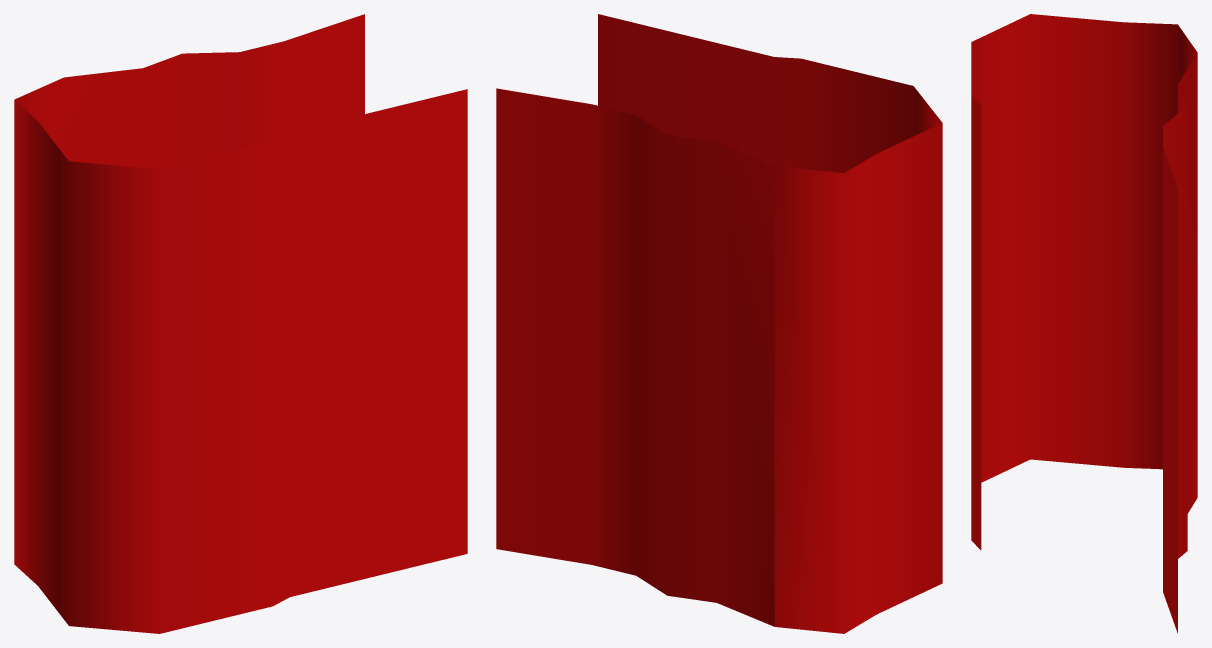
3 renders of one model, left to right at view 1: azimuth 30°, elevation 25°; view 2: azimuth 150°, elevation 25°; view 3: azimuth 270°, elevation 25°, orthographic. The views are drawn at different scales.
Visible parts, largest first — view 1: BG001_1012_00_c02; view 2: BG001_1012_00_c02; view 3: BG001_1012_00_c02.
Boxes of the visible parts, x1,y1,x2,y2 form: BG001_1012_00_c02: (14, 14, 467, 633); BG001_1012_00_c02: (496, 14, 942, 633); BG001_1012_00_c02: (971, 14, 1197, 633).
Bounding box in the file's own units: 840 × 1000 × 460.
